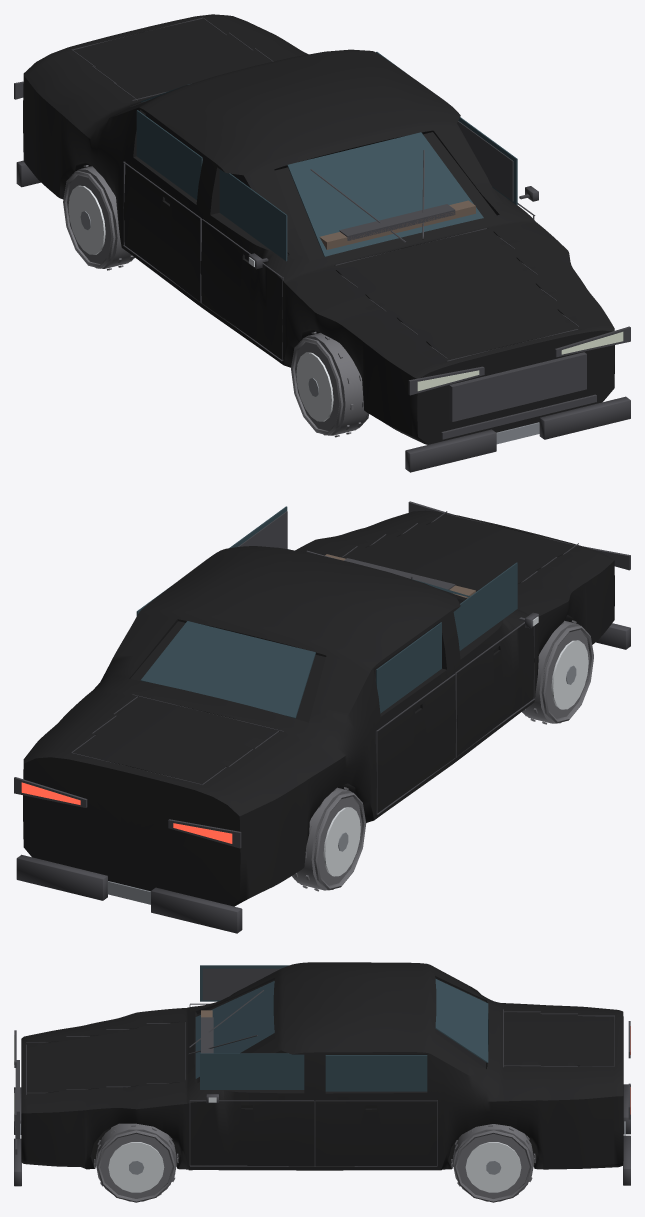
File: Sedan_Mid_A_21_Black.fbx
3 renders of one model, top to bottom at view 1: azimuth 30°, elevation 25°; view 2: azimuth 150°, elevation 25°; view 3: azimuth 270°, elevation 25°, orthographic. The views are drawn at different scales.
Visible parts, largest first — view 1: LOD0; view 2: LOD0; view 3: LOD0.
Part boxes in pixels (x1=…): LOD0: x1=14, y1=14, x2=630, y2=472; LOD0: x1=14, y1=501, x2=630, y2=933; LOD0: x1=14, y1=962, x2=630, y2=1202.
Size of what is drawn, in the model's own units: 204 by 144 by 488.
